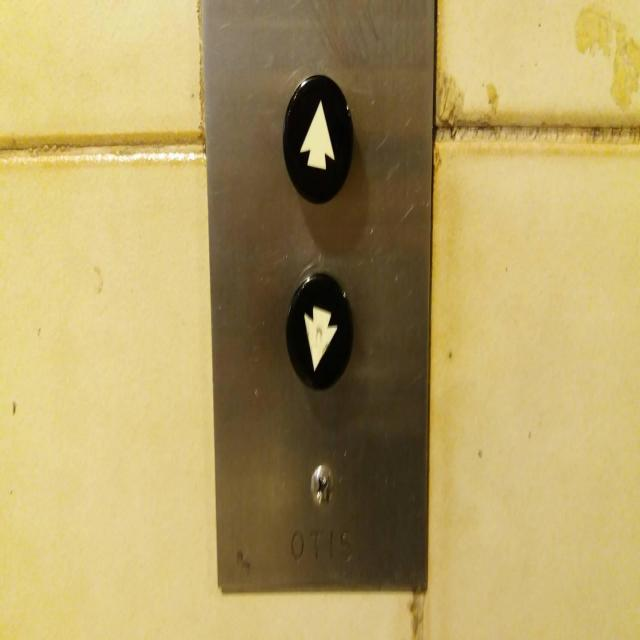down: (285, 270, 354, 391)
up: (282, 73, 354, 205)
